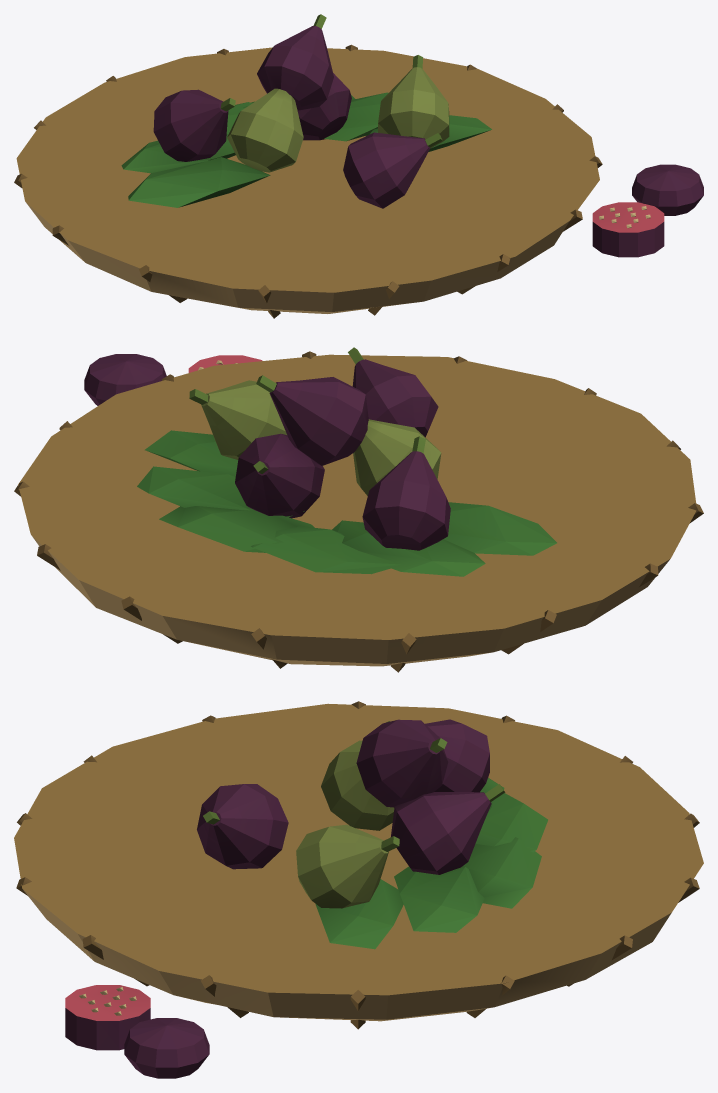
3 renders of one model, top to bottom at view 1: azimuth 30°, elevation 25°; view 2: azimuth 150°, elevation 25°; view 3: azimuth 270°, elevation 25°, orthographic. The views are drawn at different scales.
Parts seen in each view (by area): view 1: base; view 2: base; view 3: base.
Part boxes in pixels (x1,y1,x2,y2): base: (14,14,703,318); base: (14,347,703,672); base: (14,701,703,1078).
Bounding box in the file's own units: 0.5271 × 0.1539 × 0.4689.
